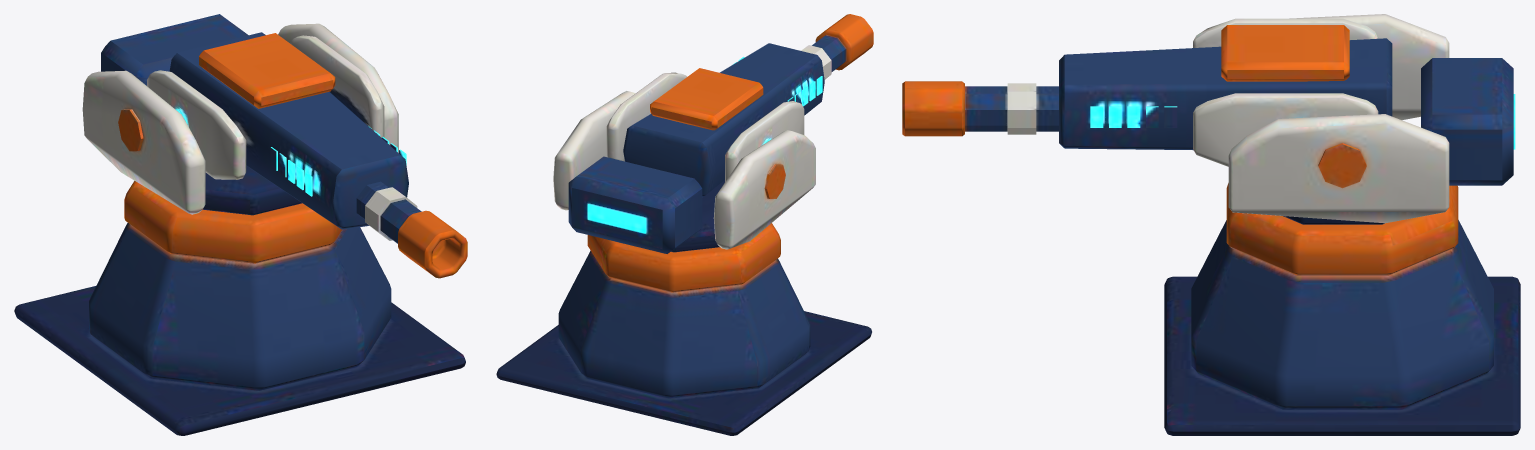
File: R4W_Basic_LOD1.glb
3 views of the same model, side by side, from view 1: azimuth 30°, elevation 25°; view 2: azimuth 150°, elevation 25°; view 3: azimuth 270°, elevation 25° (orthographic). The views are drawn at different scales.
Parts seen in each view (by area): view 1: R4W_Basic_LOD1; view 2: R4W_Basic_LOD1; view 3: R4W_Basic_LOD1.
Boxes of the visible parts, x1,y1,x2,y2 form: R4W_Basic_LOD1: (14,14,467,435); R4W_Basic_LOD1: (496,14,873,435); R4W_Basic_LOD1: (902,14,1520,435).
Bounding box in the file's own units: 0.5 × 0.496 × 0.868.
4 materials, 4 textured.
